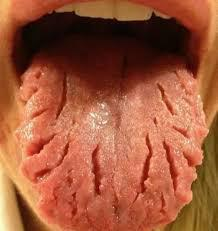baitaishe: (21, 59, 209, 231)
liewenshe: (21, 133, 200, 198), (154, 79, 178, 118), (54, 70, 70, 122)
